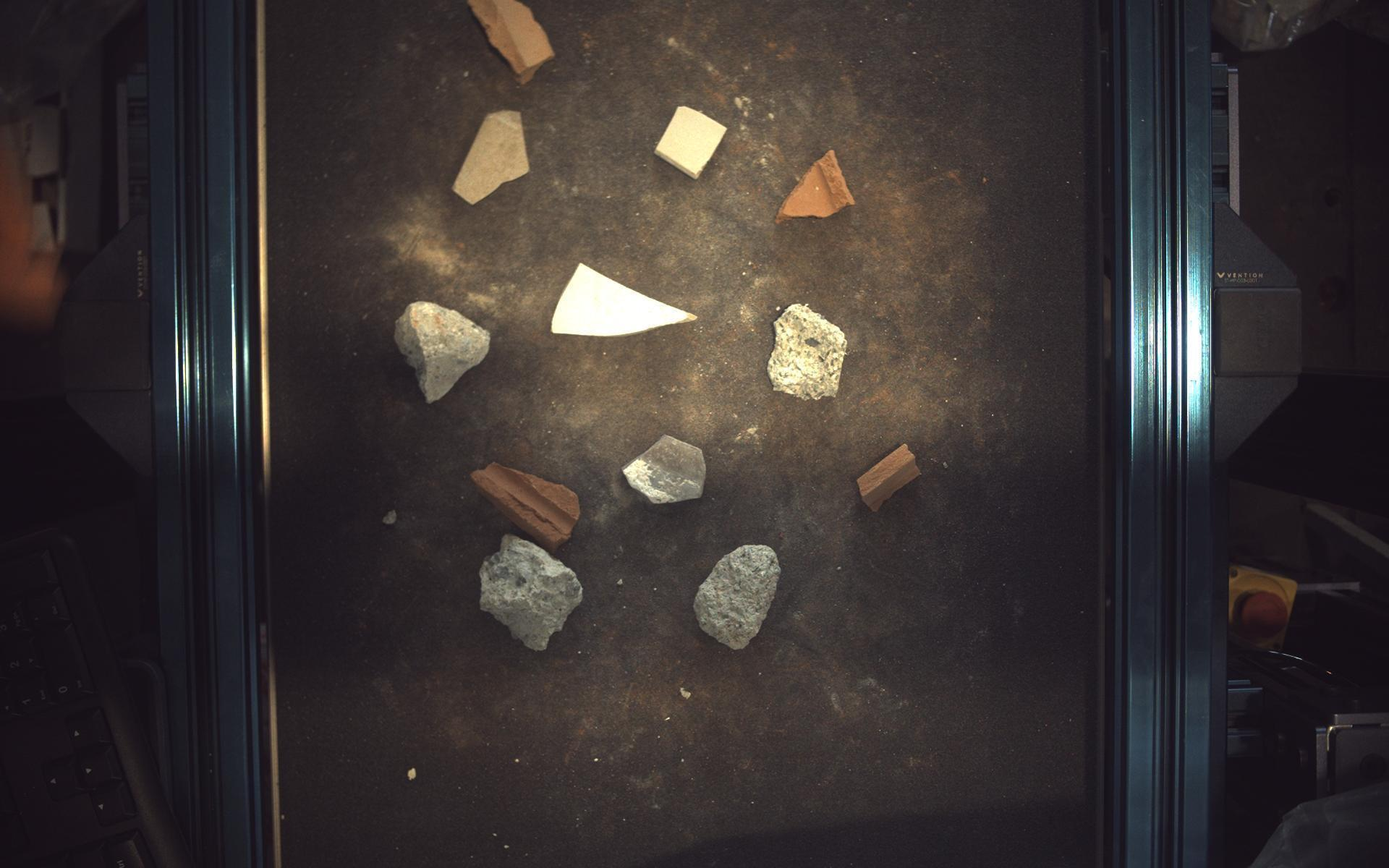brick: (472, 464, 580, 553), (470, 1, 555, 83), (777, 149, 857, 223), (858, 444, 922, 512)
concrete: (480, 535, 583, 652), (394, 301, 490, 404), (694, 545, 782, 650), (769, 304, 849, 400)
tile: (552, 263, 697, 336), (453, 109, 530, 203), (624, 435, 707, 504), (656, 105, 727, 178)
